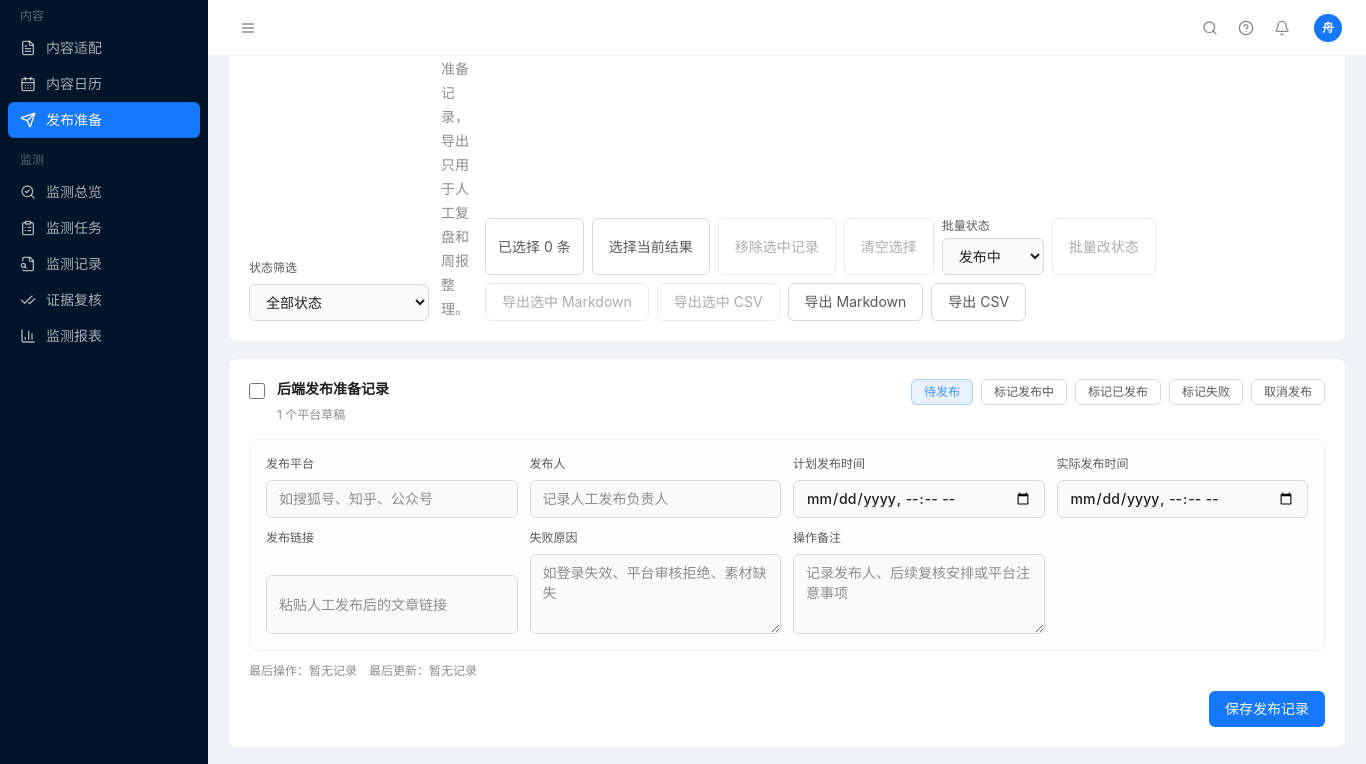
Test case: P6 发布准备队列页面 › 优先读取后端发布队列并保存发布记录
(page scrolled)
Expected: the text "后端发布准备记录" is shown, [277,379,389,399]
Step 1. Type "2026-09-21T09:30" into the field labelled "实际发布时间" → (1182, 499), box [1056,480,1308,518]
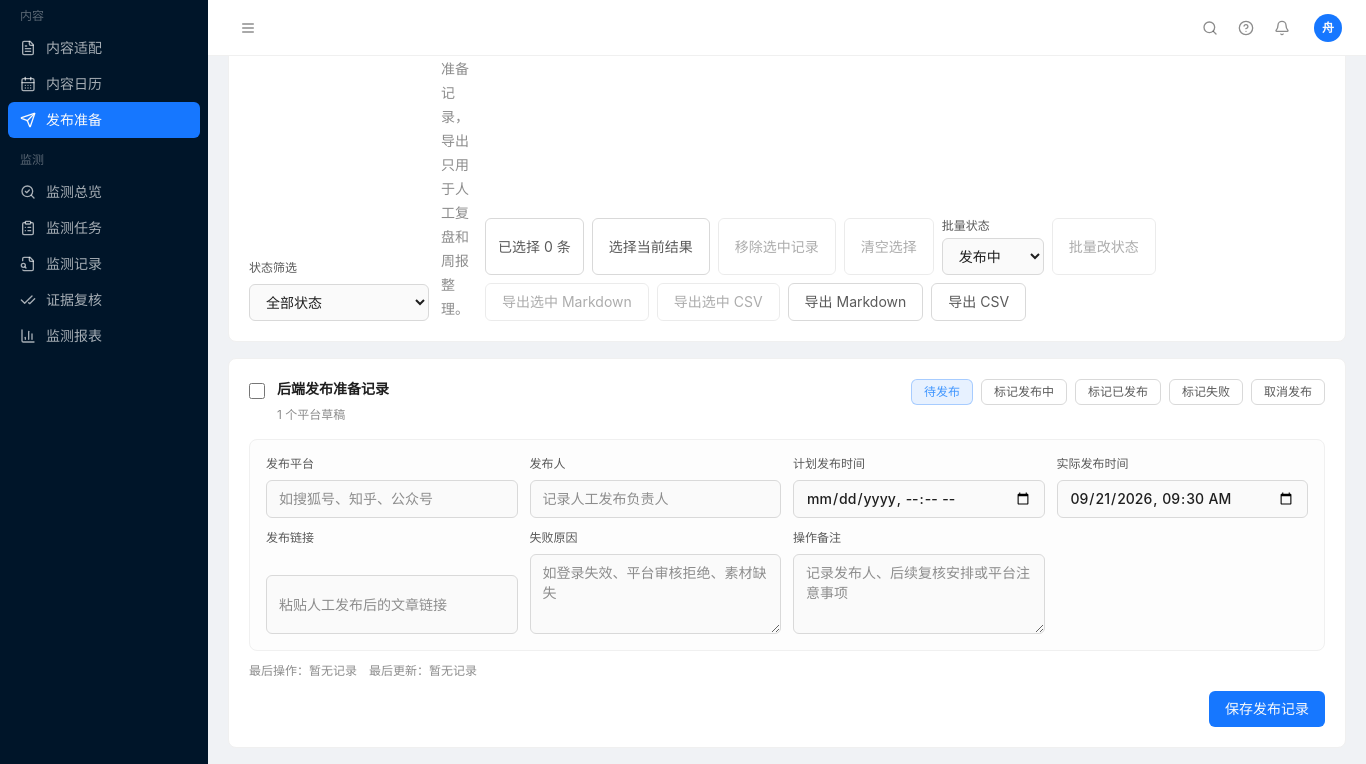
Step 2. Type "https://example.com/backend-published" into the field labelled "发布链接" → (392, 604), box [266,575,518,634]
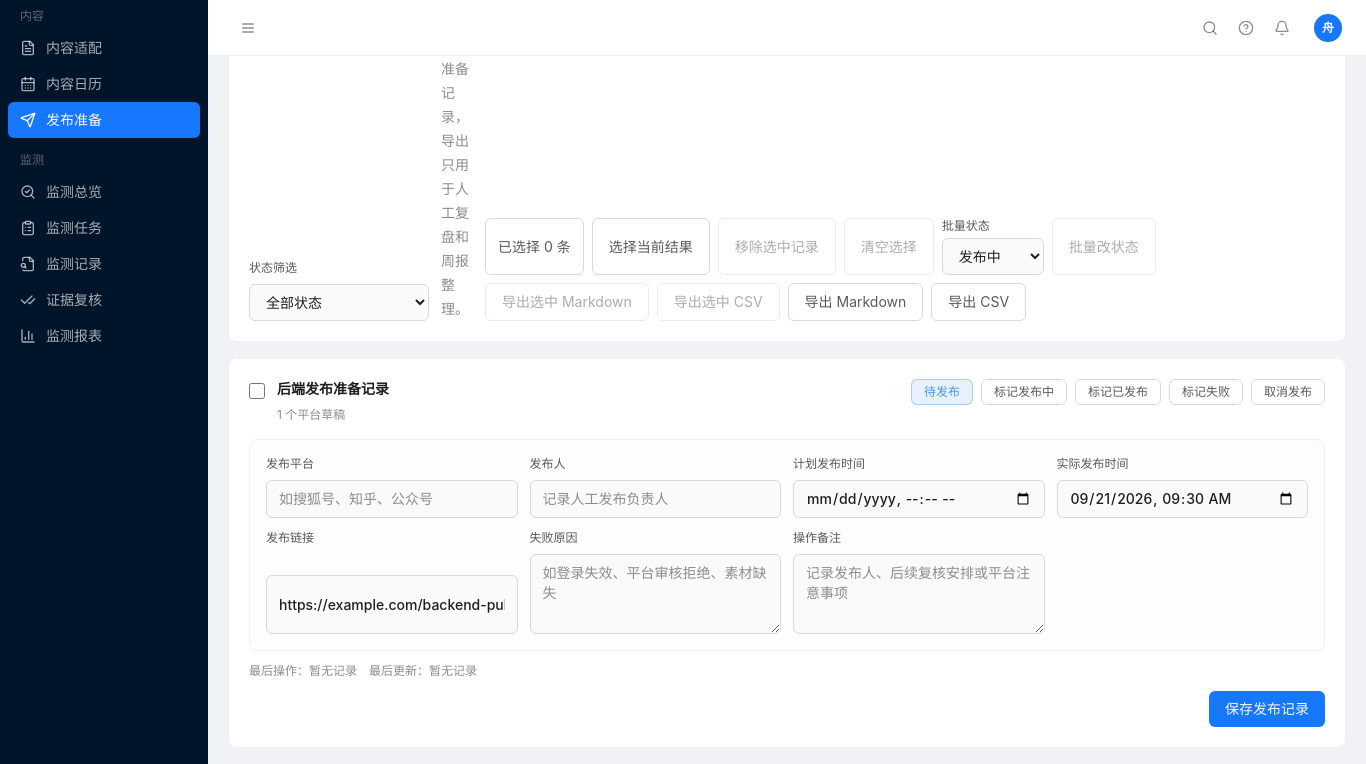
Step 3. Click the button "标记已发布" → (1118, 392), box [1075,379,1161,405]
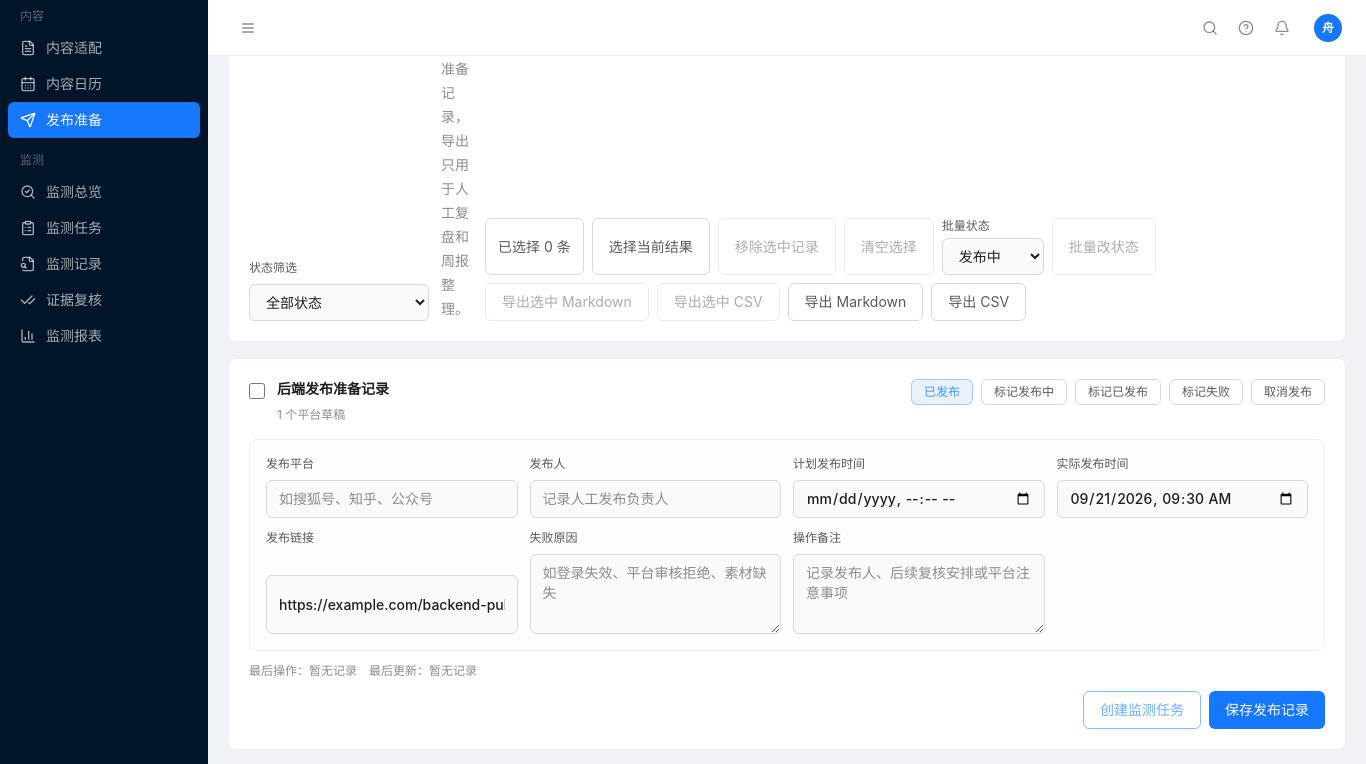
Step 4. Click the button "保存发布记录" → (1267, 710), box [1209,691,1325,729]
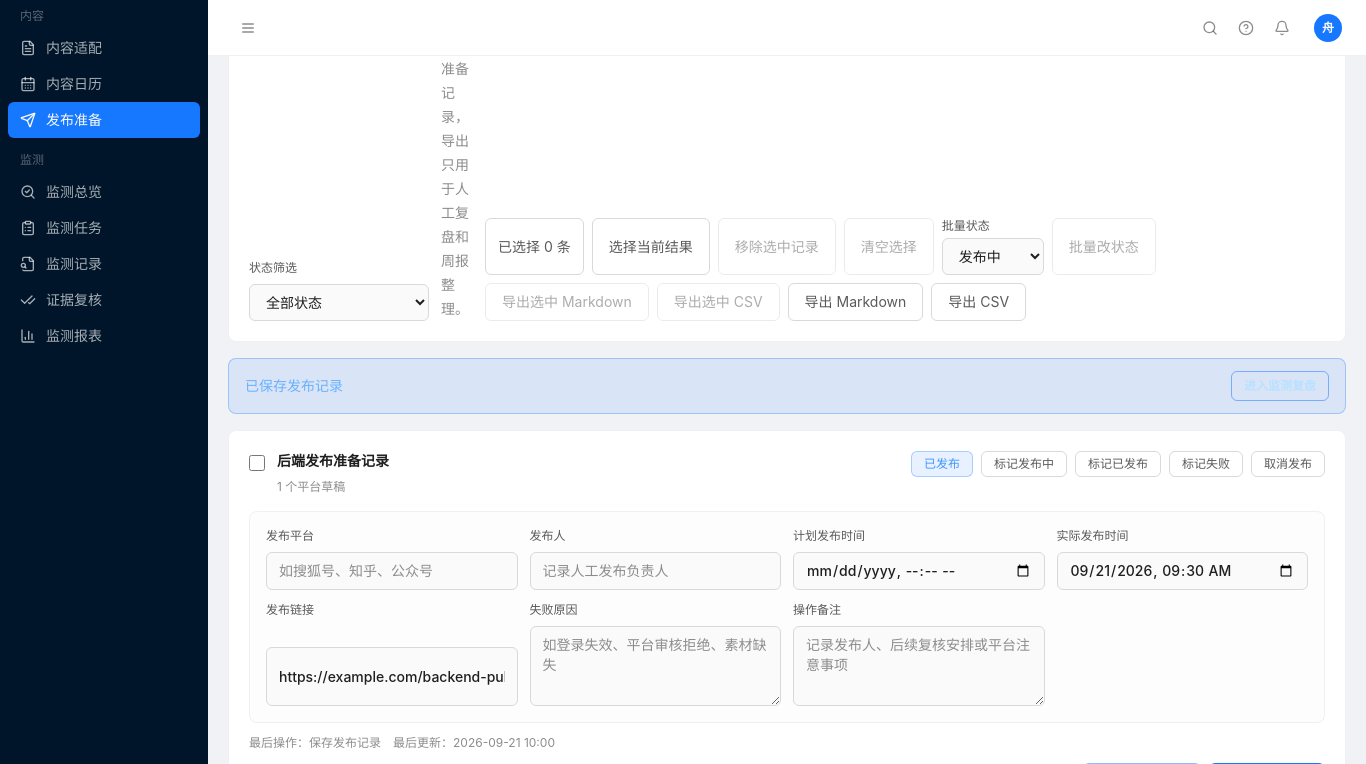
Expected: the text "已保存发布记录" is shown, [245,376,343,396]
